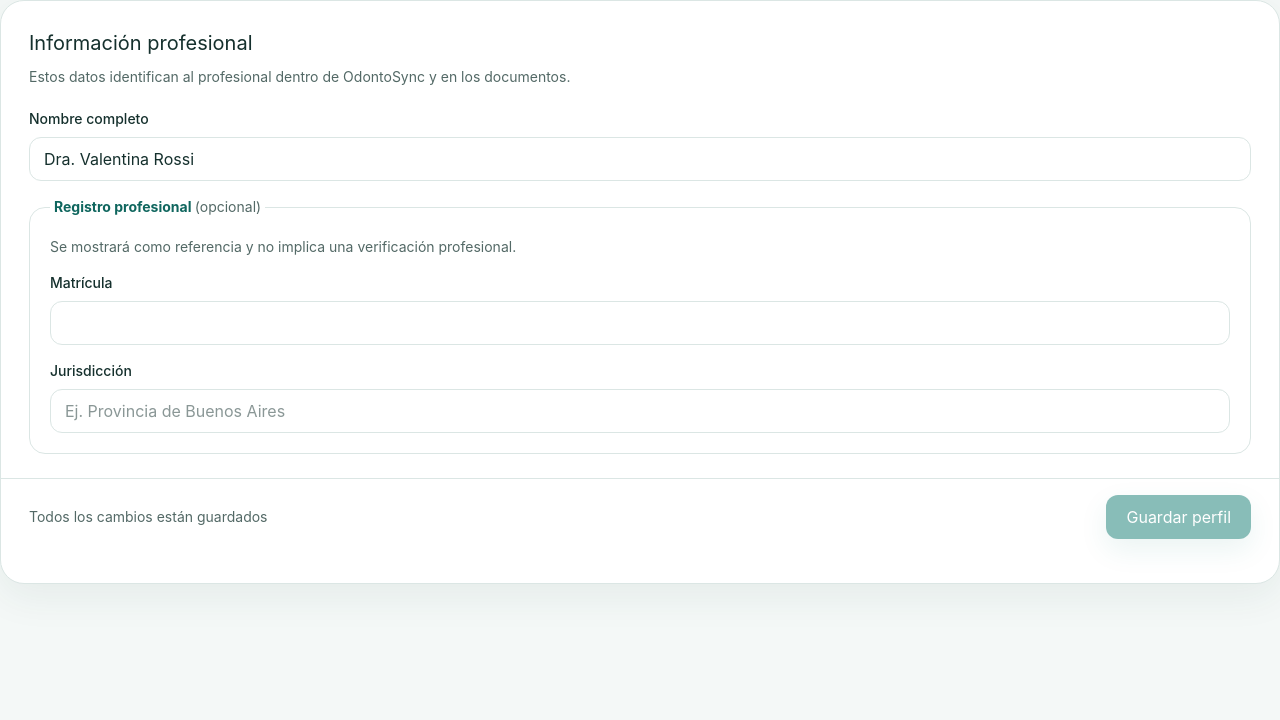
Test: ProfileSettingsForm › keeps an invalid edit available for retry after a save error
Replace the text in the field labelled "Nombre completo" with "Dra. Valentina R. Rossi" at (640, 159), box [29, 137, 1251, 181]
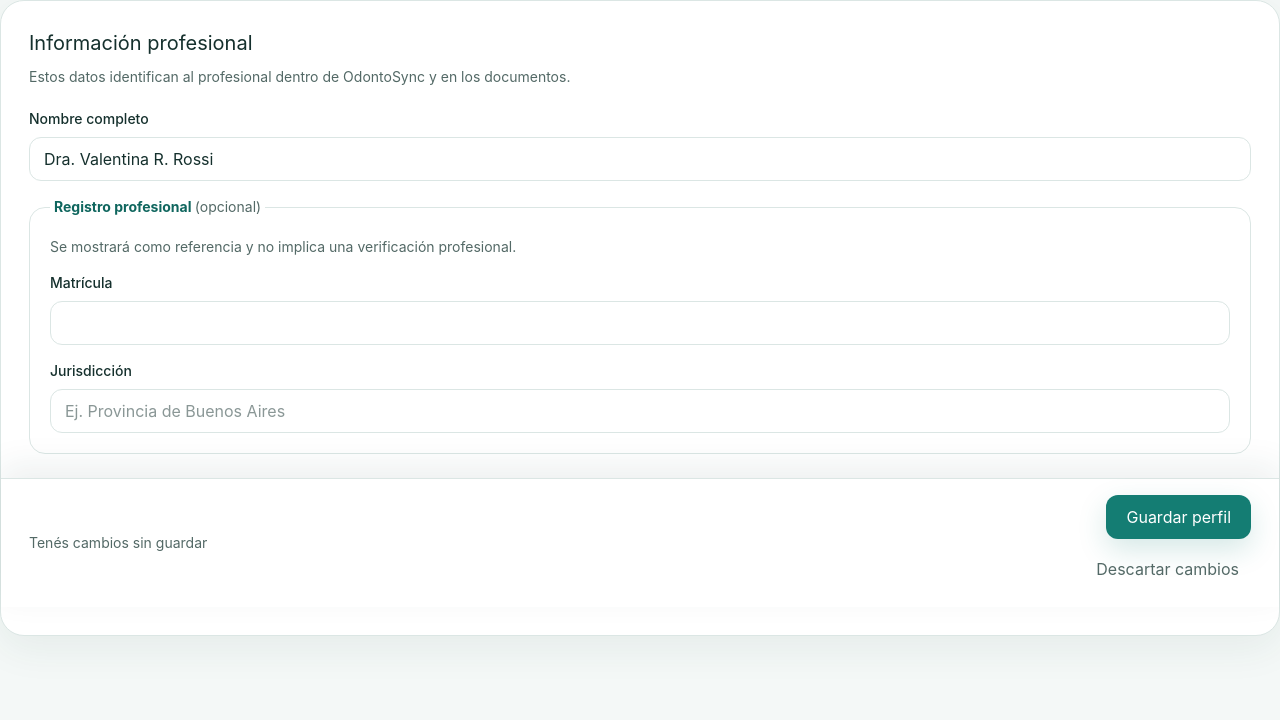
Click the button "Guardar perfil".
click(1179, 517)  # box [1106, 495, 1251, 539]
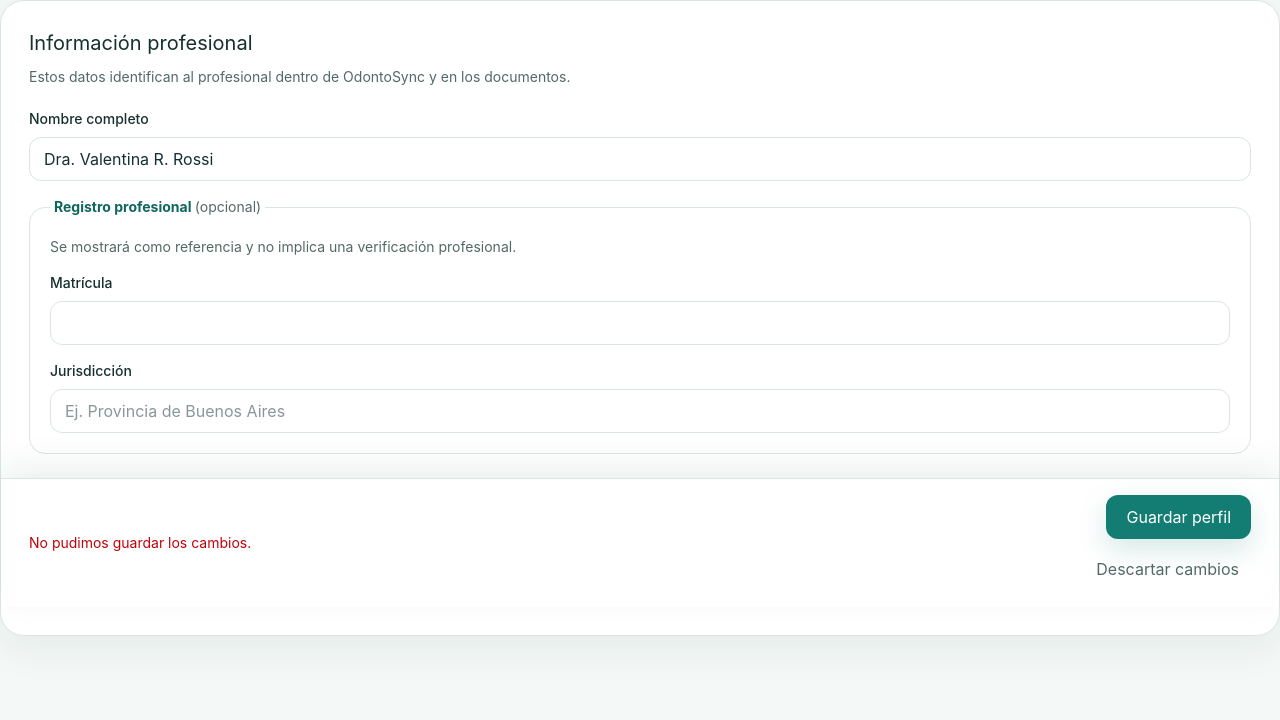
Expected: the button "Guardar perfil" is enabled, [1106, 495, 1251, 539]
Expected: the text "No pudimos guardar los cambios." is shown, [29, 533, 251, 553]
